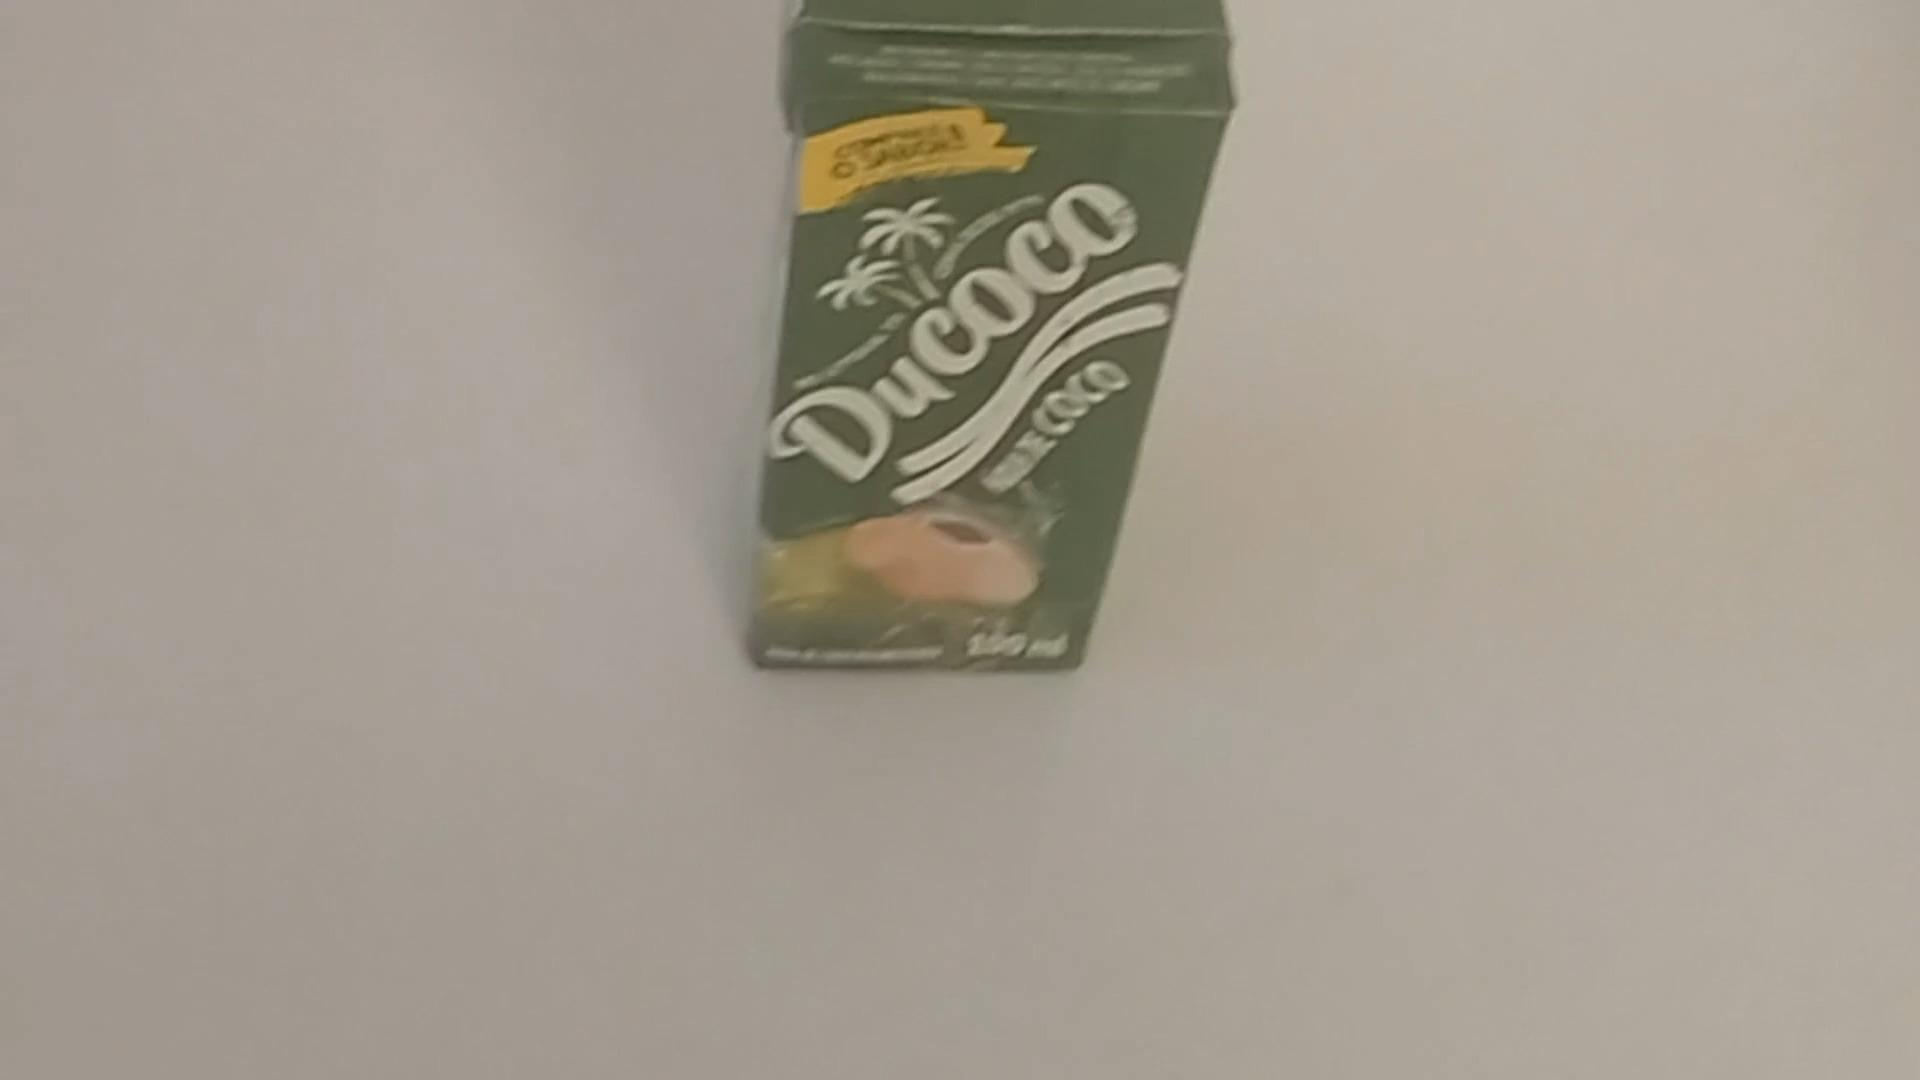coco: (742, 1, 1229, 676)
